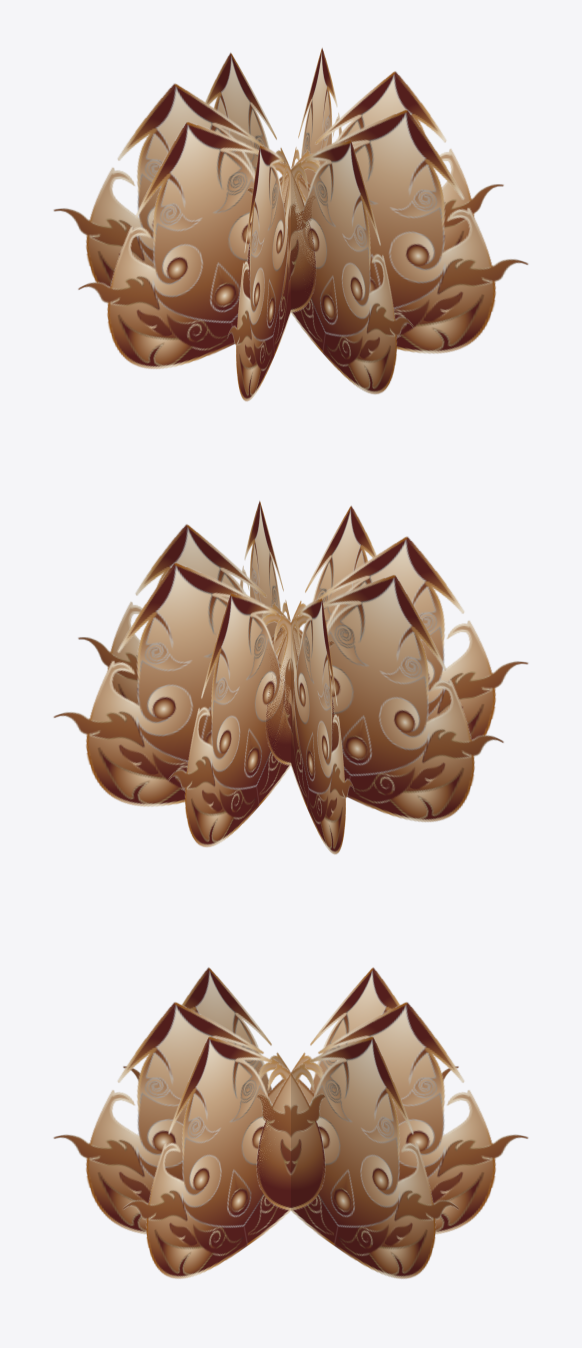
File: Art_decor_02.glb
3 views of the same model, one above another, from view 1: azimuth 30°, elevation 25°; view 2: azimuth 150°, elevation 25°; view 3: azimuth 270°, elevation 25° (orthographic). The views are drawn at different scales.
Visible parts, largest first — view 1: Art_decor_02; view 2: Art_decor_02; view 3: Art_decor_02.
Part boxes in pixels (box(x1,y1,x2,y2)): Art_decor_02: box(53, 47, 528, 401); Art_decor_02: box(53, 500, 528, 854); Art_decor_02: box(53, 967, 528, 1279).
Size of the model in its own units: 2.49 by 1.67 by 2.49.
1 material, 1 textured.
